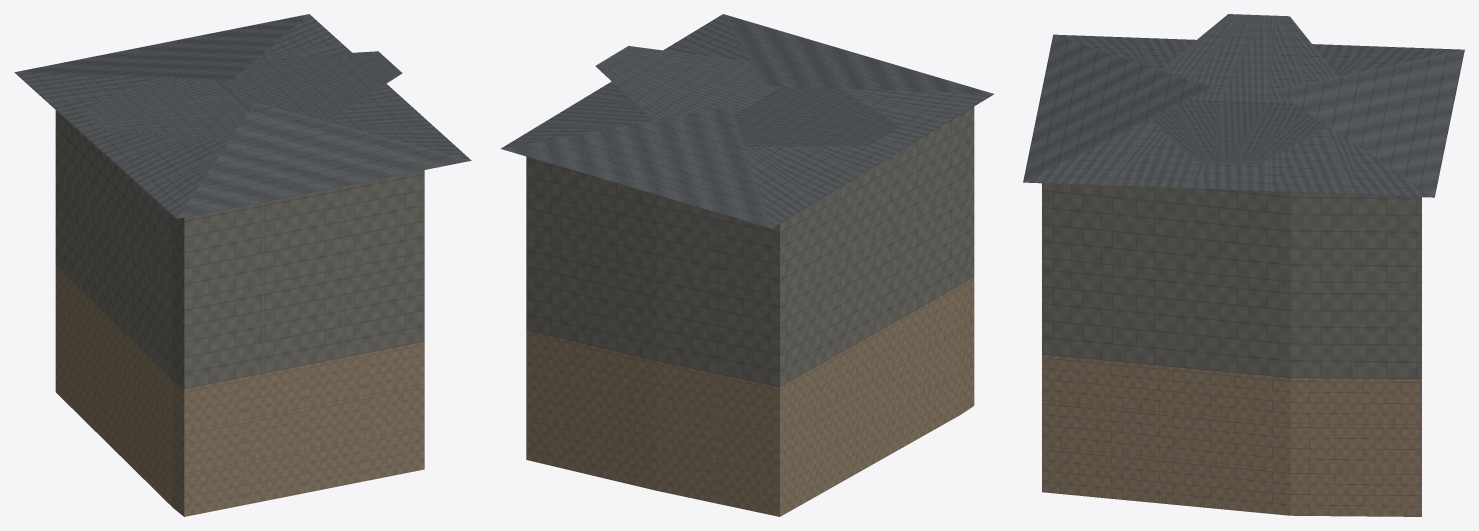
The model's file is bld_c42_-9_501.gltf.
3 renders of one model, left to right at view 1: azimuth 30°, elevation 25°; view 2: azimuth 150°, elevation 25°; view 3: azimuth 270°, elevation 25°, orthographic. The views are drawn at different scales.
Visible parts, largest first — view 1: bld_c42_-9_501; view 2: bld_c42_-9_501; view 3: bld_c42_-9_501.
Part boxes in pixels (x1=…): bld_c42_-9_501: x1=14, y1=14, x2=471, y2=516; bld_c42_-9_501: x1=500, y1=14, x2=993, y2=516; bld_c42_-9_501: x1=1023, y1=14, x2=1464, y2=516.
Bounding box in the file's own units: 12.93 × 13.2 × 14.82.
3 materials, 3 textured.
